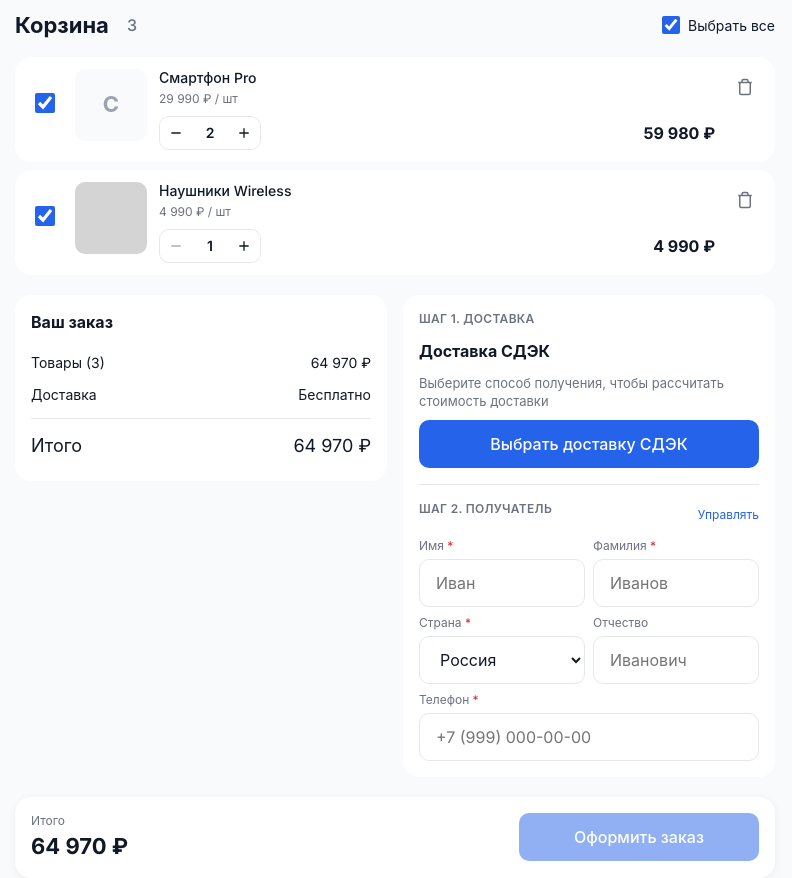
Test: Cart.vue › снимает выбор со всех товаров через API при клике на "Выбрать все"
Click the checkbox labelled "Выбрать все".
click(671, 25)  # box [662,16,680,34]
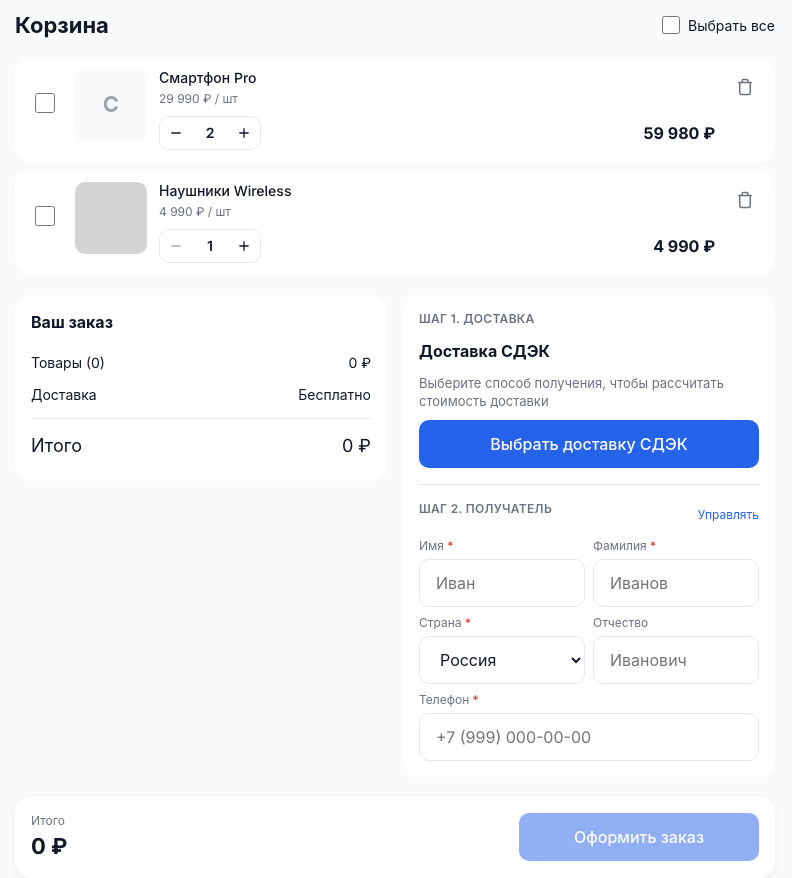
expect the checkbox named "Выбрать товар" in the row of "29 990 ₽ / шт" is not checked: met, box [35,93,55,113]
expect the checkbox named "Выбрать товар" next to "4 990 ₽ / шт" is not checked: met, box [35,206,55,226]
